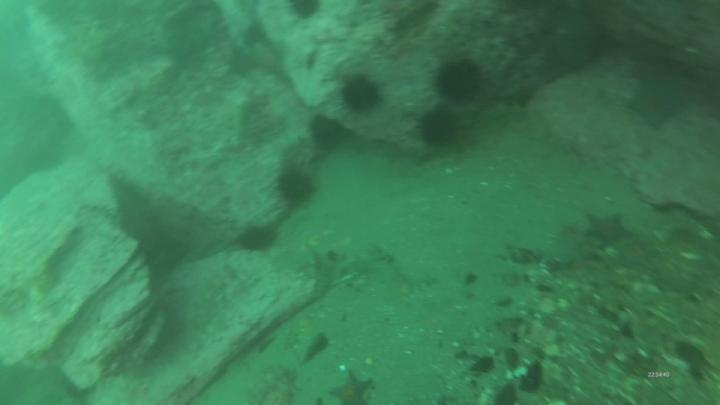echinus: (438, 63, 483, 101), (421, 111, 460, 148), (314, 118, 347, 150), (279, 174, 315, 202), (345, 81, 379, 109), (245, 230, 276, 250)
starfish: (587, 214, 635, 245), (331, 374, 372, 405)
